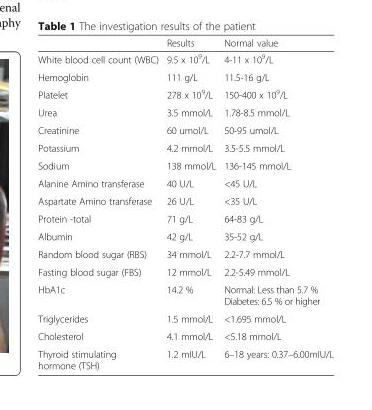table: (37, 36, 333, 370)
table column: (37, 36, 161, 370), (219, 36, 333, 370), (161, 36, 219, 370)
table column header: (37, 36, 333, 50)
table row: (37, 280, 333, 309), (37, 344, 333, 370), (37, 84, 333, 103), (37, 103, 333, 121), (37, 138, 333, 156), (37, 156, 333, 174), (37, 191, 333, 209), (37, 209, 333, 227), (37, 244, 333, 262), (37, 262, 333, 280), (37, 309, 333, 327), (37, 50, 333, 67), (37, 67, 333, 84), (37, 121, 333, 138), (37, 174, 333, 191), (37, 227, 333, 244), (37, 327, 333, 344), (37, 36, 333, 50)
